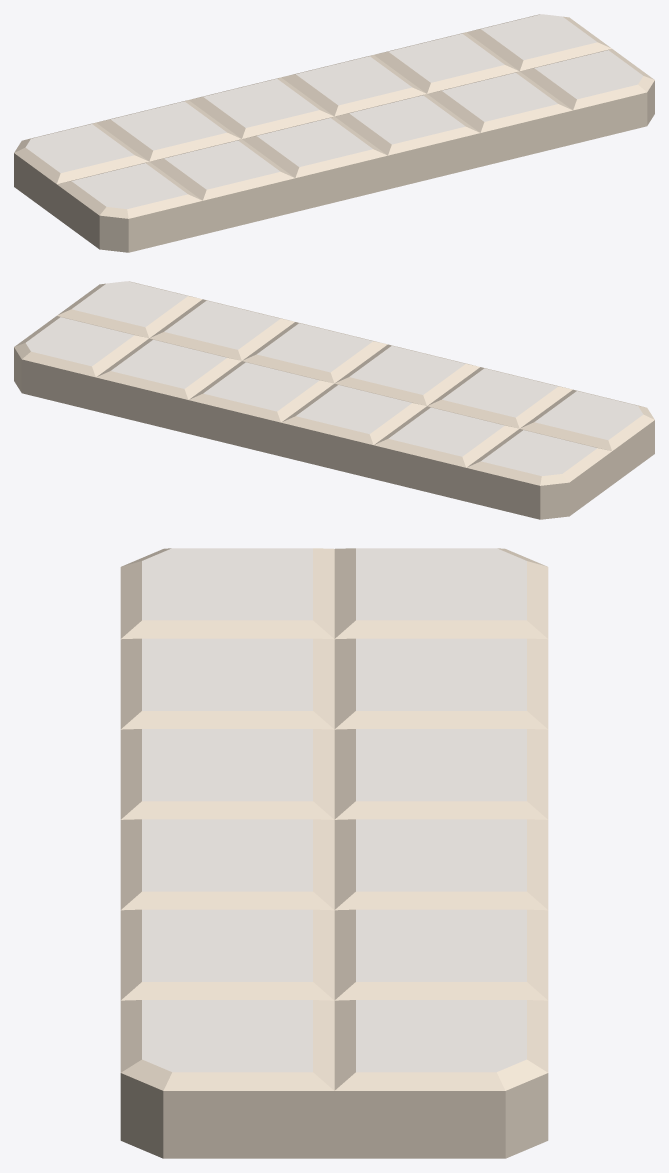
Rendered from Puzzle_Sliding_Platform_1x3.glb.
3 views of the same model, one above another, from view 1: azimuth 30°, elevation 25°; view 2: azimuth 150°, elevation 25°; view 3: azimuth 270°, elevation 25° (orthographic). The views are drawn at different scales.
Visible parts, largest first — view 1: Puzzle_Sliding_Platform_1x3; view 2: Puzzle_Sliding_Platform_1x3; view 3: Puzzle_Sliding_Platform_1x3.
Boxes of the visible parts, bbox=[...] form: Puzzle_Sliding_Platform_1x3: bbox=[14, 14, 654, 252]; Puzzle_Sliding_Platform_1x3: bbox=[14, 281, 654, 519]; Puzzle_Sliding_Platform_1x3: bbox=[120, 548, 548, 1158].
Size of the model in its own units: 3 by 0.3 by 1.
